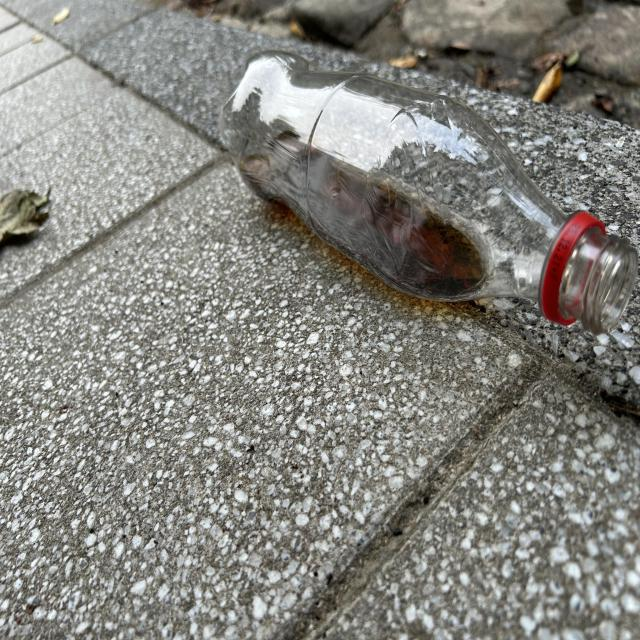low: (220, 52, 638, 333)
